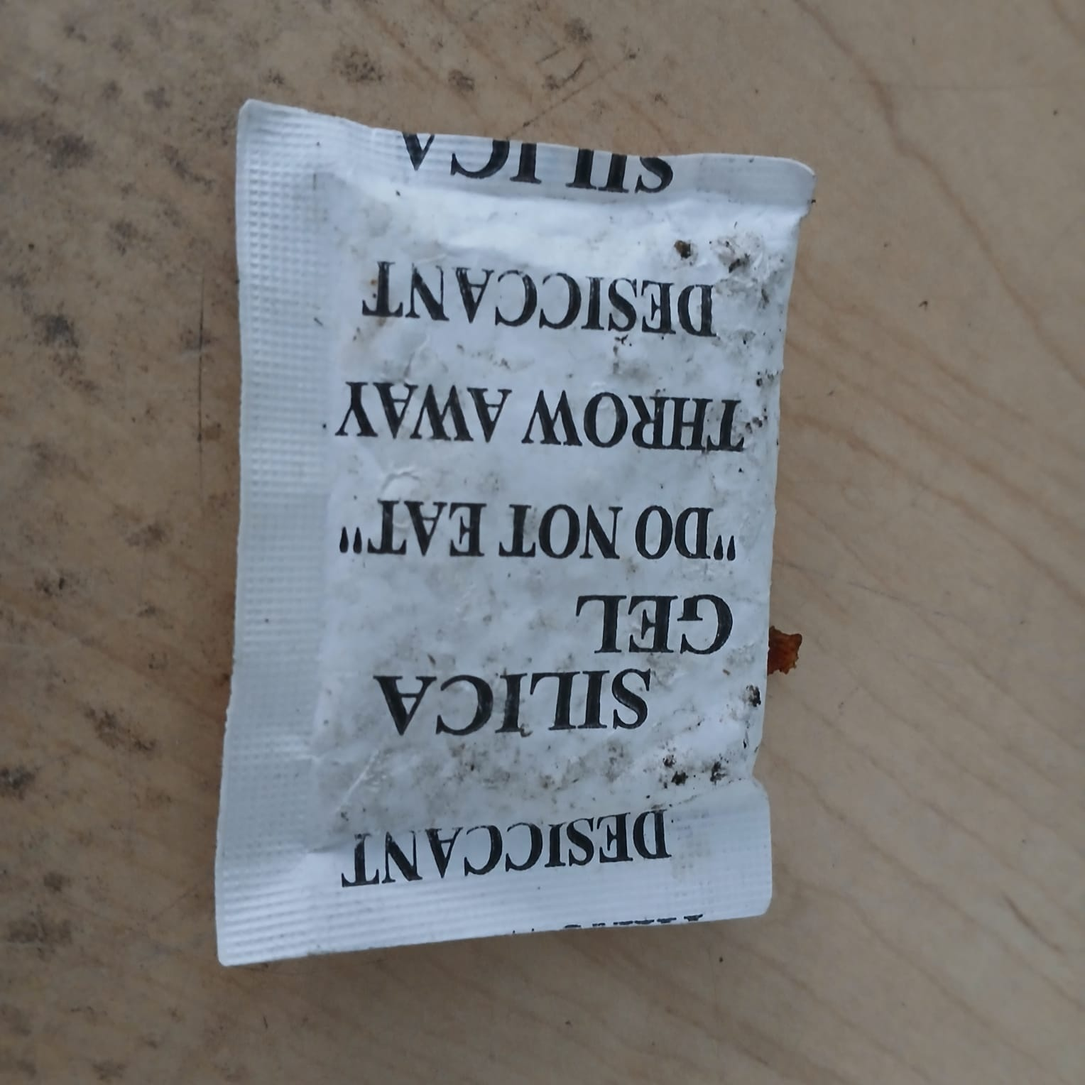Ordinario: (215, 100, 816, 965)
